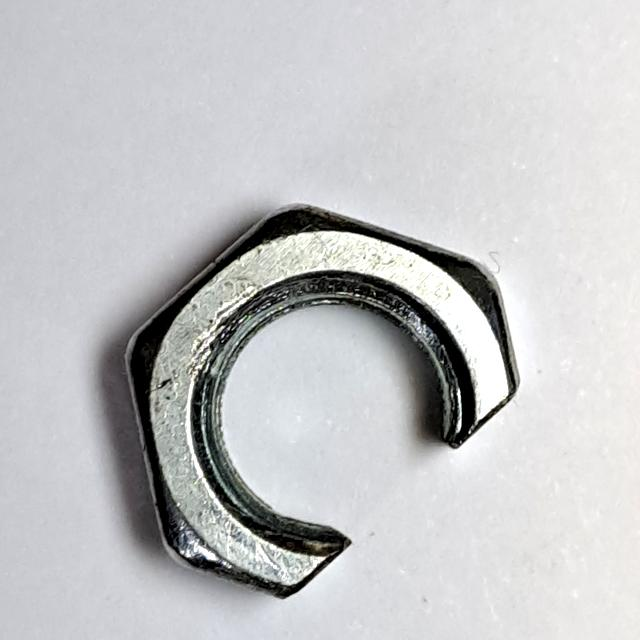Fracture: (111, 188, 528, 615)
